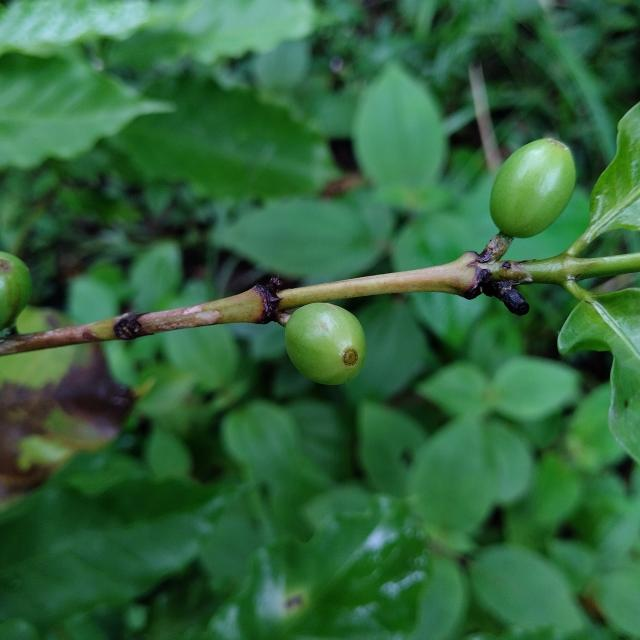green: (491, 138, 577, 238), (286, 303, 367, 385), (0, 251, 31, 331)
